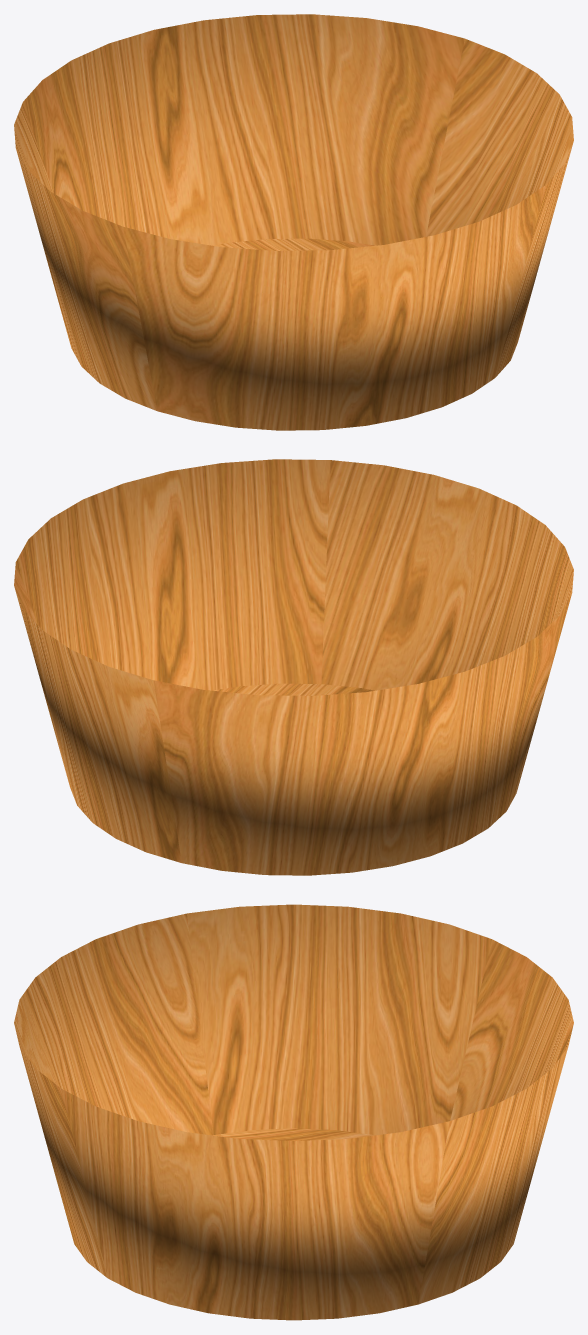
File: Basket.fbx
3 views of the same model, one above another, from view 1: azimuth 30°, elevation 25°; view 2: azimuth 150°, elevation 25°; view 3: azimuth 270°, elevation 25° (orthographic).
Parts seen in each view (by area): view 1: Circle.008; view 2: Circle.008; view 3: Circle.008.
Part boxes in pixels (x1,y1,x2,y2): Circle.008: (14, 14, 573, 430); Circle.008: (14, 459, 573, 875); Circle.008: (14, 904, 573, 1320).
Size of the model in its own units: 250 by 100 by 250.
1 material, 1 textured.
